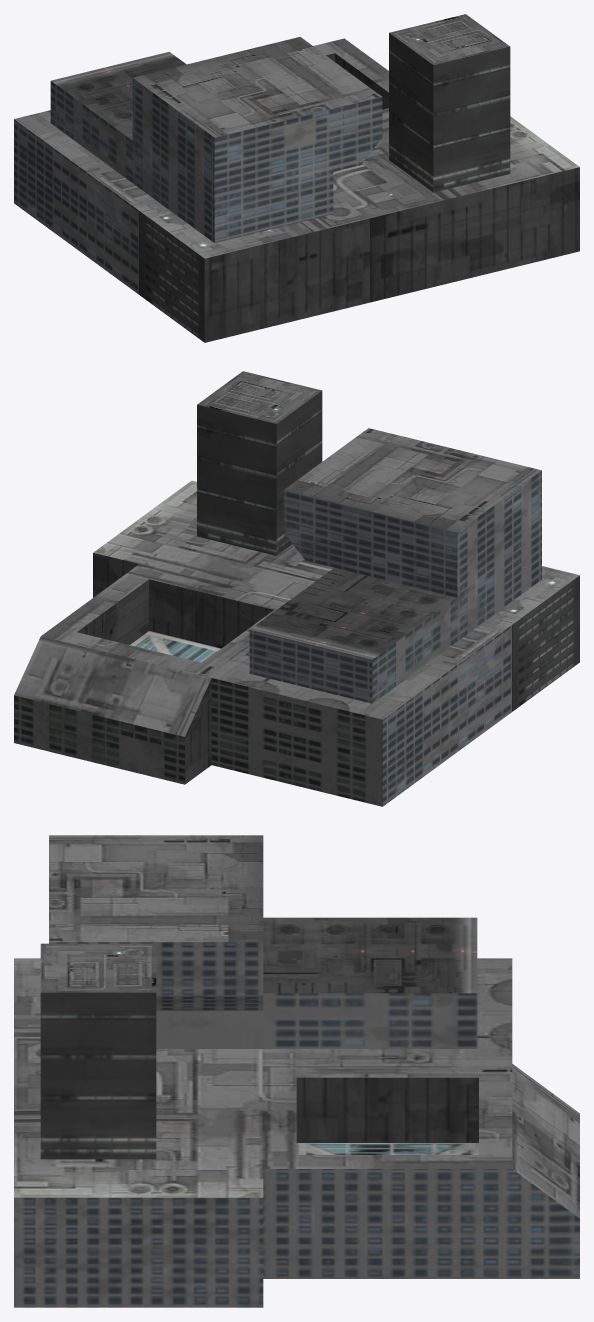
Rendered from scifi_building_53.obj.
The picture shows the model from 3 angles, top to bottom: view 1: azimuth 30°, elevation 25°; view 2: azimuth 150°, elevation 25°; view 3: azimuth 270°, elevation 25°; orthographic projection. The views are drawn at different scales.
Visible parts, largest first — view 1: building_53; view 2: building_53; view 3: building_53.
Boxes of the visible parts, x1,y1,x2,y2 form: building_53: (14,14,579,342); building_53: (14,371,579,806); building_53: (14,835,579,1307).
Size of the model in its own units: 152 by 82.24 by 152.
Materials: 1 (1 with a texture image).
